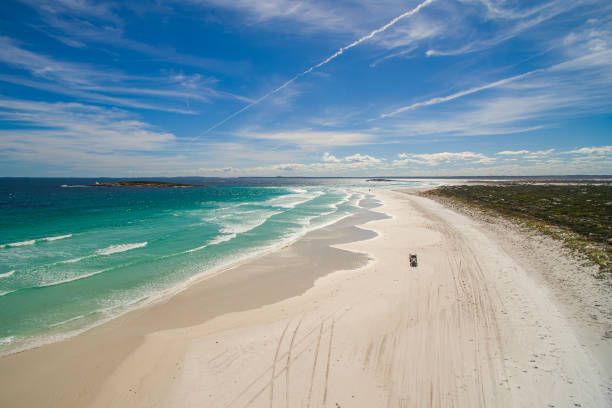human_foot_print: (444, 226, 512, 408), (273, 308, 337, 408)
